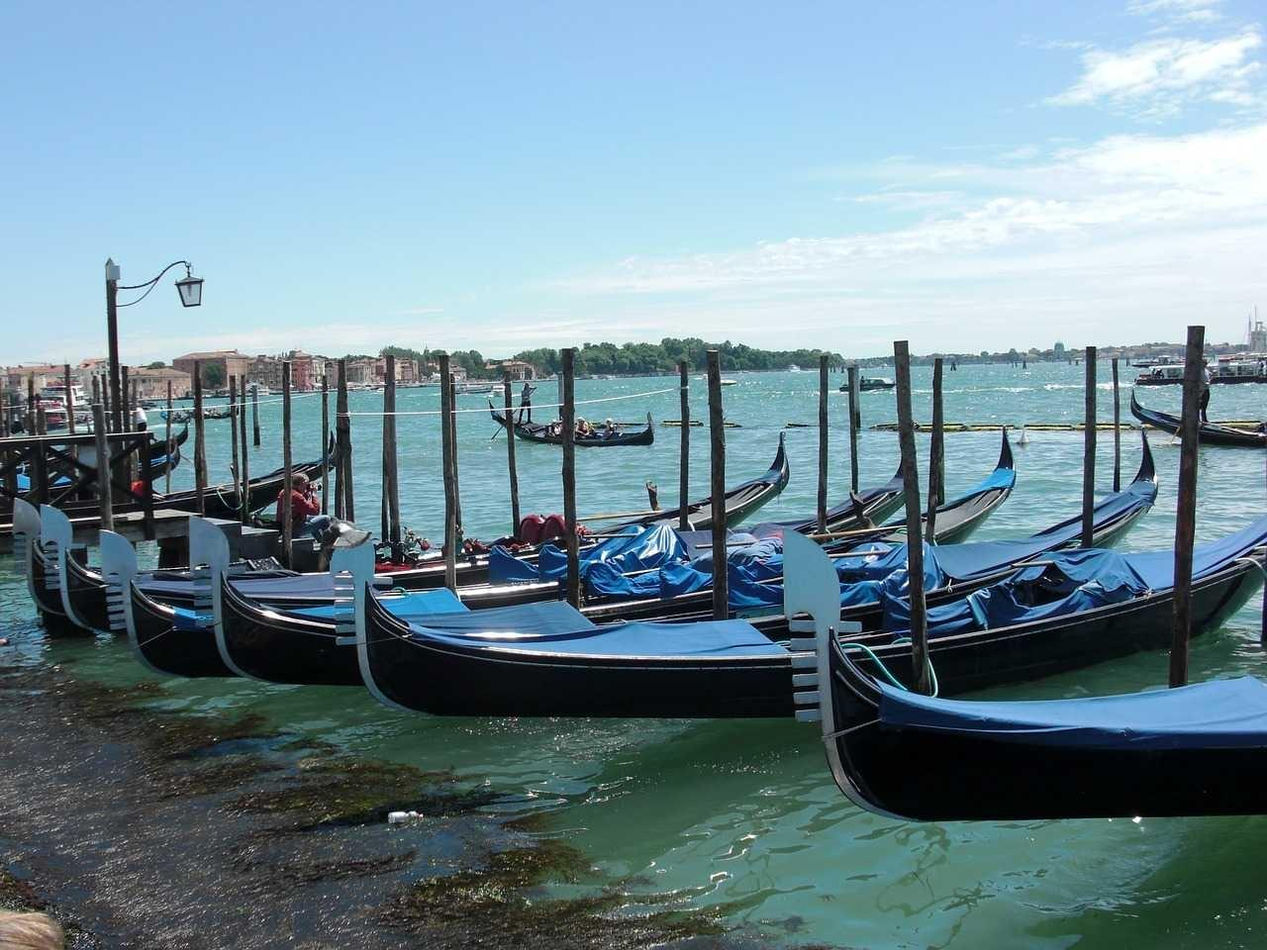kayak: (357, 454, 1186, 720), (202, 441, 796, 681), (814, 510, 1267, 731), (820, 621, 1264, 825), (443, 431, 890, 598), (22, 472, 332, 635), (119, 516, 369, 667), (524, 430, 793, 550), (0, 423, 187, 531), (1129, 394, 1266, 447), (490, 408, 655, 450)
